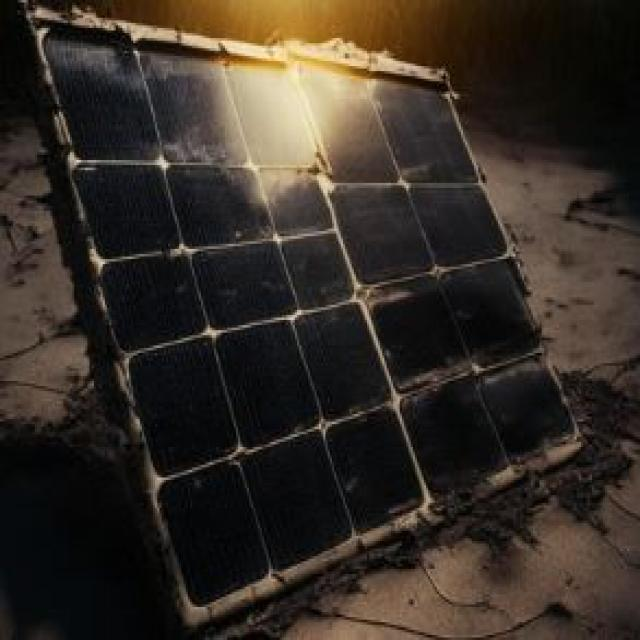faulty: (37, 16, 583, 616)
